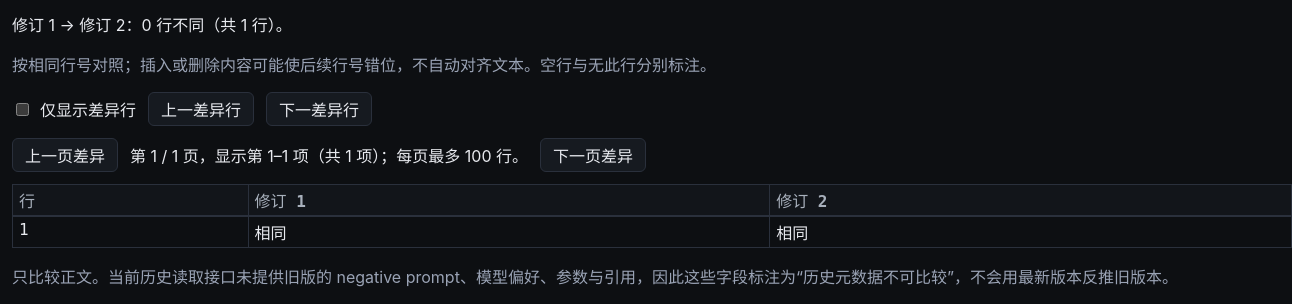
Prompt revision comparison usability › states that there are no changed lines without inventing an empty result table
This screenshot has width=1292, height=304.
Click the checkbox labelled "仅显示差异行": (22, 109) [16,102,29,116]
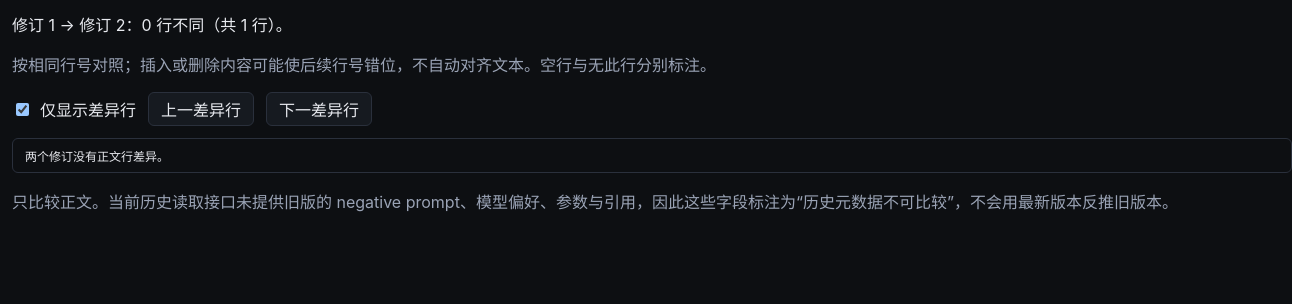
Expected: the text "两个修订没有正文行差异。" is shown, [12,138,1291,173]
Expected: the table is gone
